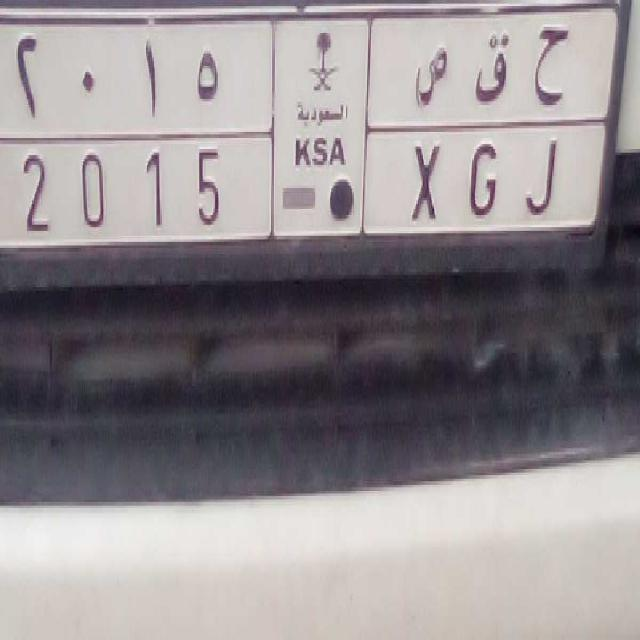license_plate: (13, 126, 576, 252)
